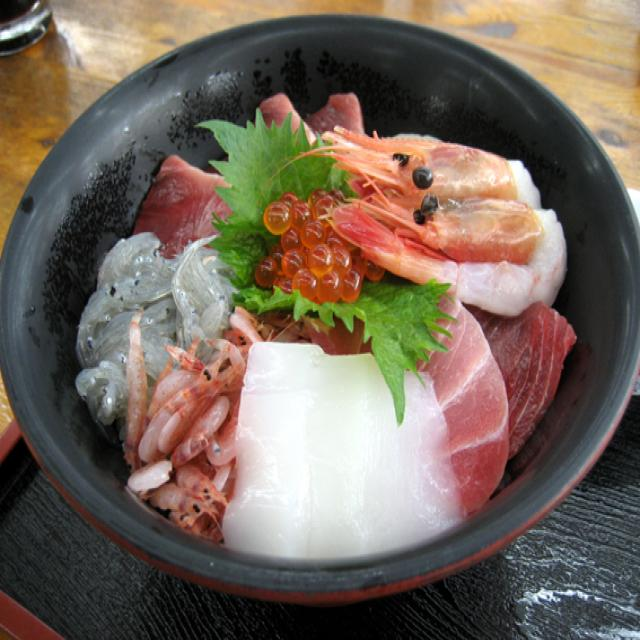刺身生食: (0, 1, 640, 594)
